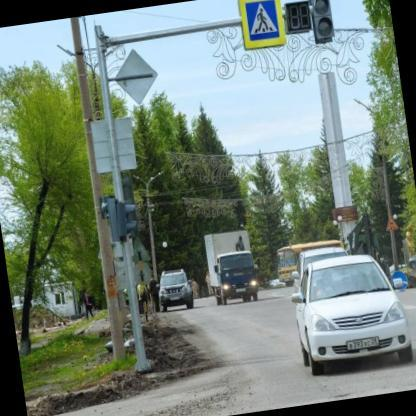off traffic light: (284, 0, 335, 41), (106, 198, 136, 242)
road_sign: (240, 0, 286, 48)
